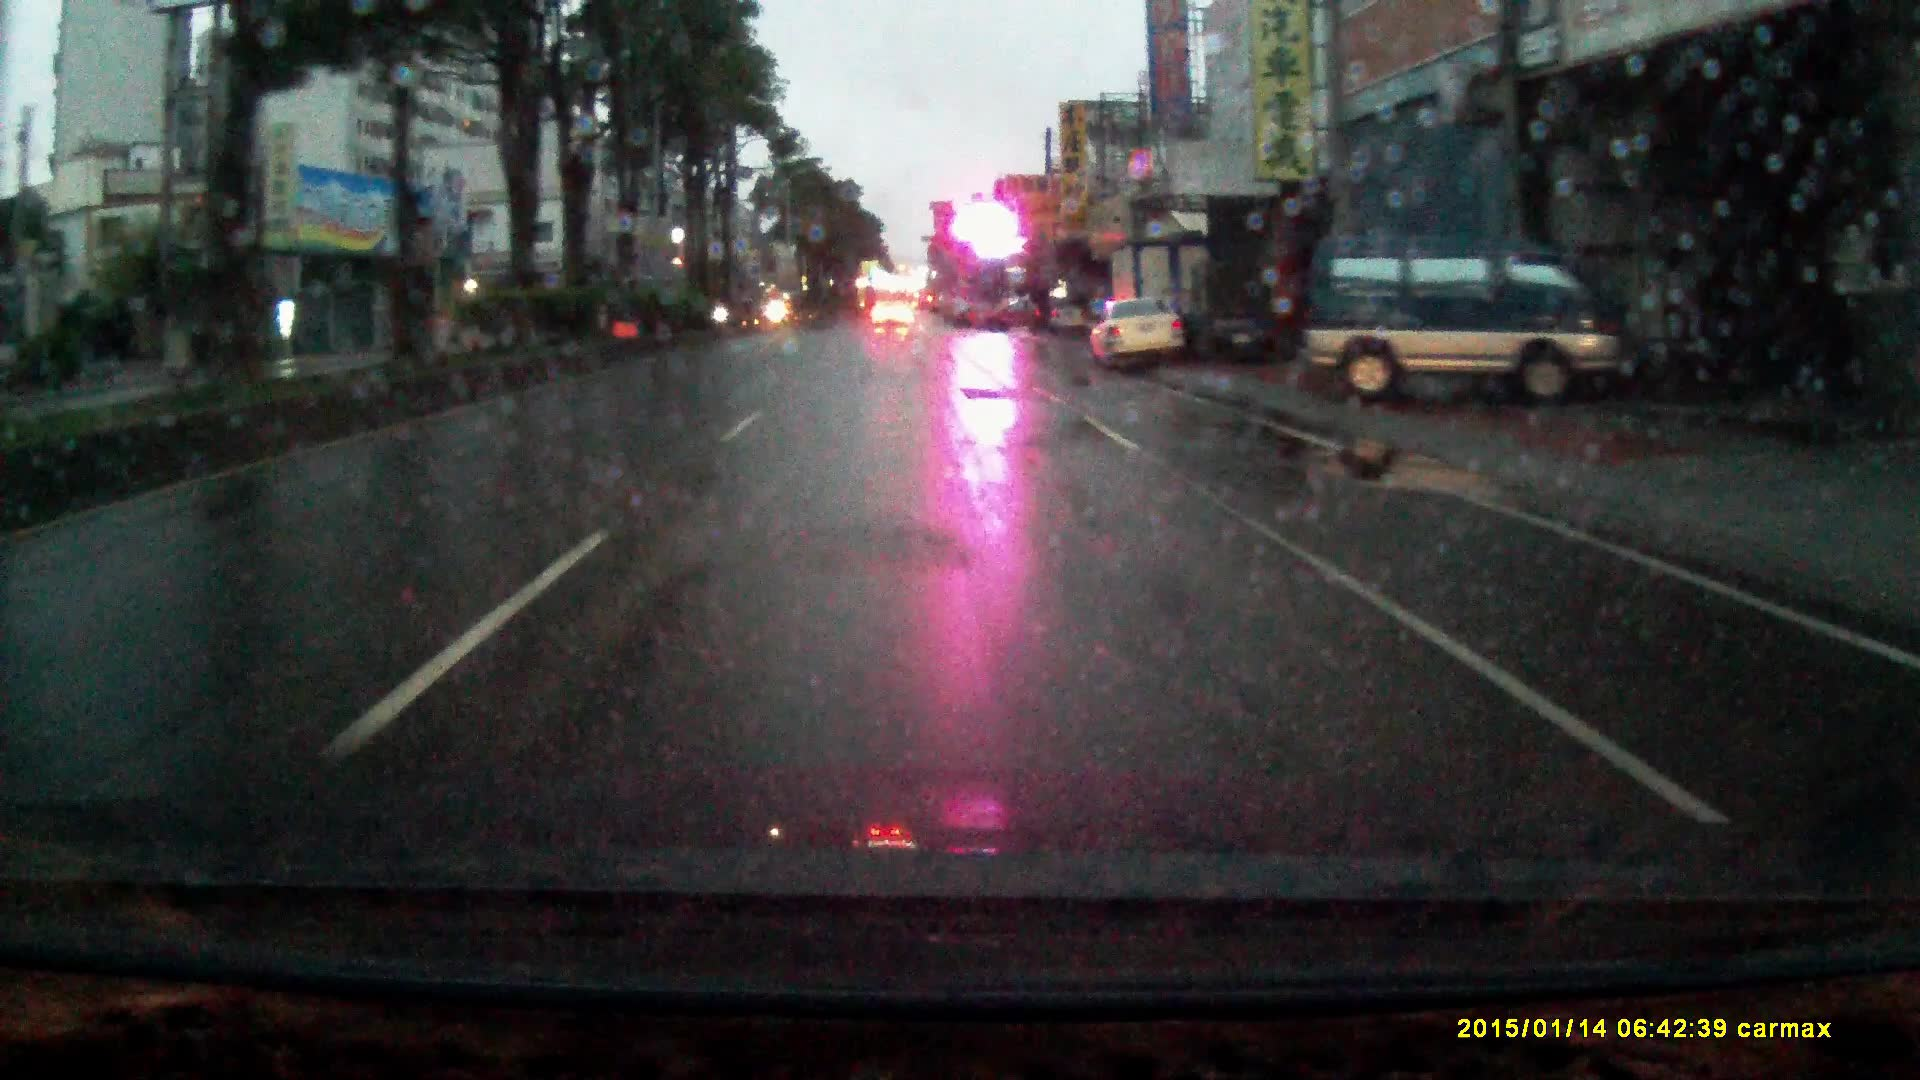vehicle: (1298, 228, 1629, 405), (1102, 233, 1224, 367), (1091, 294, 1192, 368), (971, 294, 1042, 334), (1035, 297, 1089, 336), (876, 293, 911, 328)
